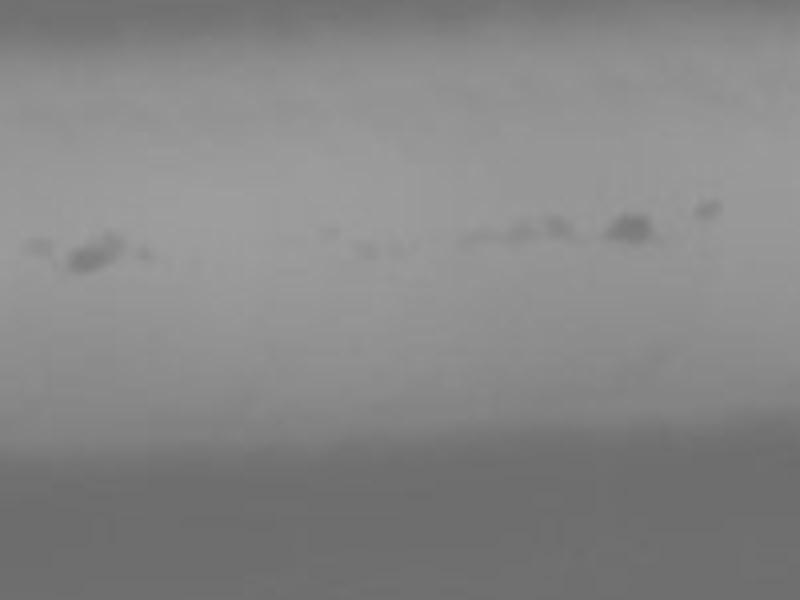defect: (71, 231, 118, 271), (606, 211, 646, 251), (462, 221, 492, 251), (546, 213, 574, 241), (506, 218, 534, 246), (696, 196, 720, 220), (357, 237, 378, 258), (25, 233, 44, 252), (322, 219, 339, 236), (134, 244, 149, 259)
